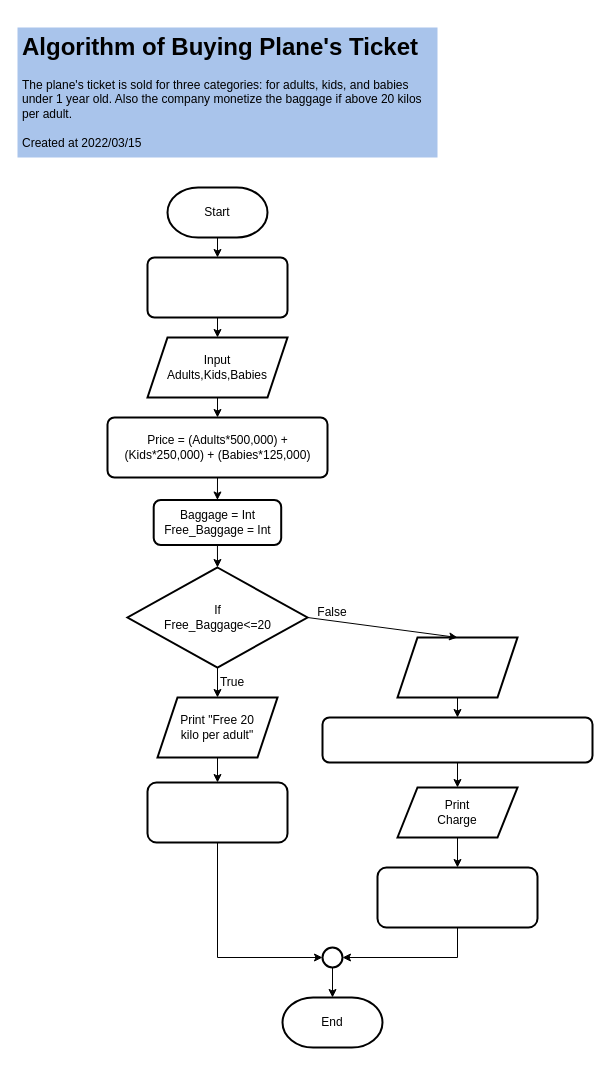
Image size: 610x1065. Some labels were removed from this diagram. Each missing label, with the centre of its shape:
Adults,Kids,Babies = Integer: pixel 217 287
Charge = (Baggage*10,000) - Free_Baggage: pixel 457 739
Input Baggage: pixel 457 667
Price1 = Price + Free_Baggage: pixel 217 812
Price2 = Price + Charge: pixel 457 897
